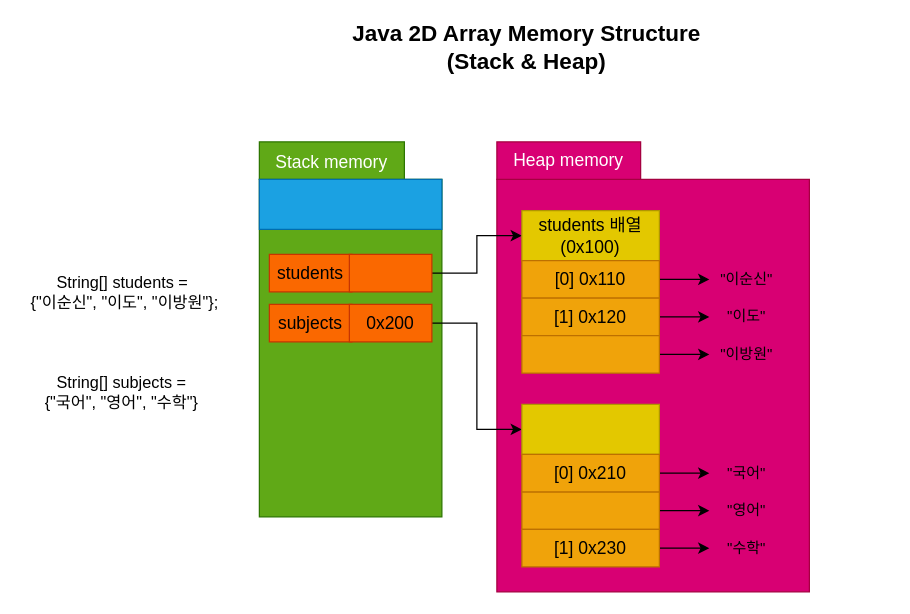
The diagram is 910 pixels wide and 614 high, and some of its shapes have lost their labels. Each missing label, with the box of its shape:
0x100: (348, 253, 432, 292)
[1] 0x220: (521, 491, 659, 529)
[2] 0x130: (521, 334, 659, 373)
main() 메서드 프레임: (258, 178, 442, 229)
subjects 배열 (0x200: (521, 403, 659, 454)
